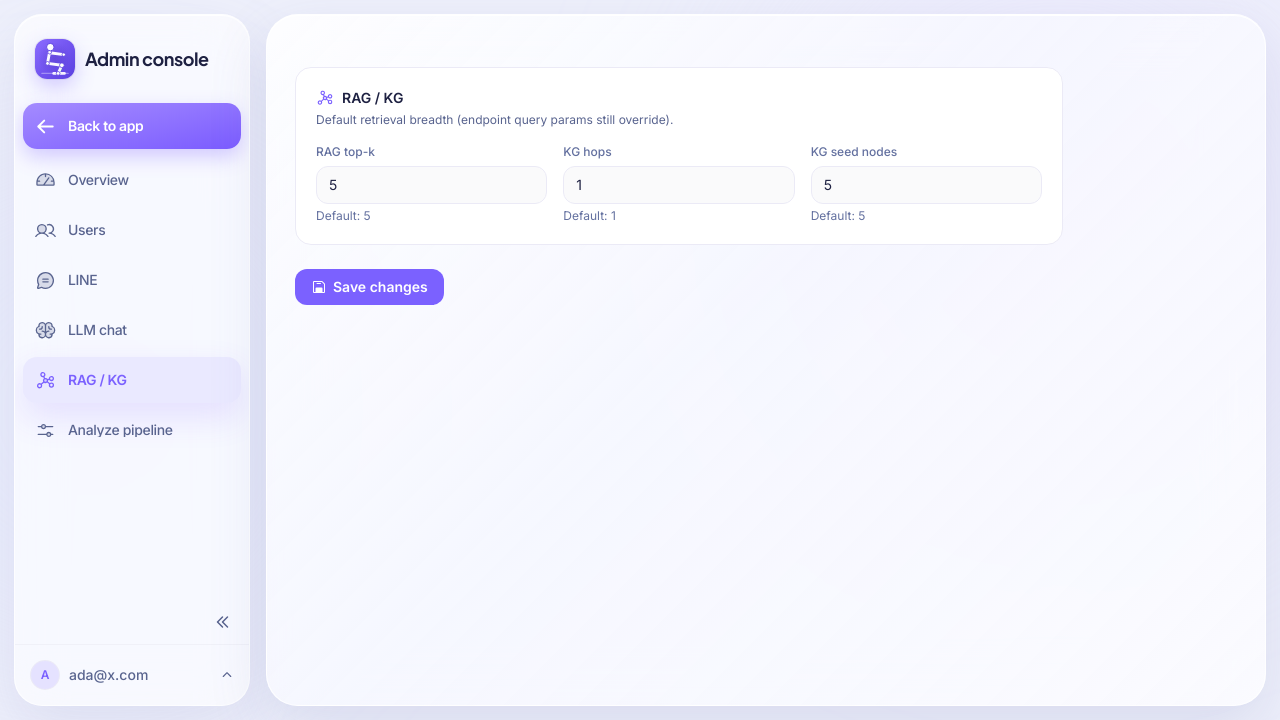
it: Admin settings pages › blocks the save and shows an invalid-number error when a required field is cleared
Clear the field labelled "RAG top-k" at (432, 185), box [316,166,547,204]
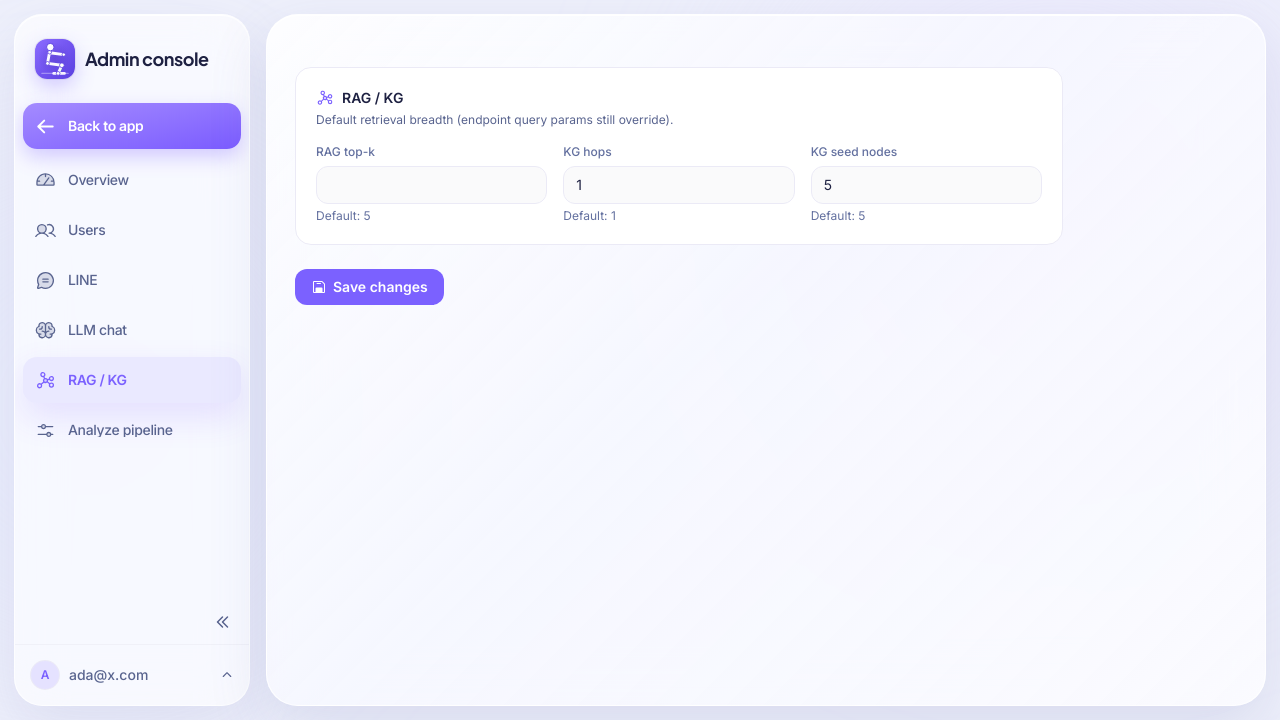
Click the button "Save changes".
click(369, 287)  # box [295,269,444,305]
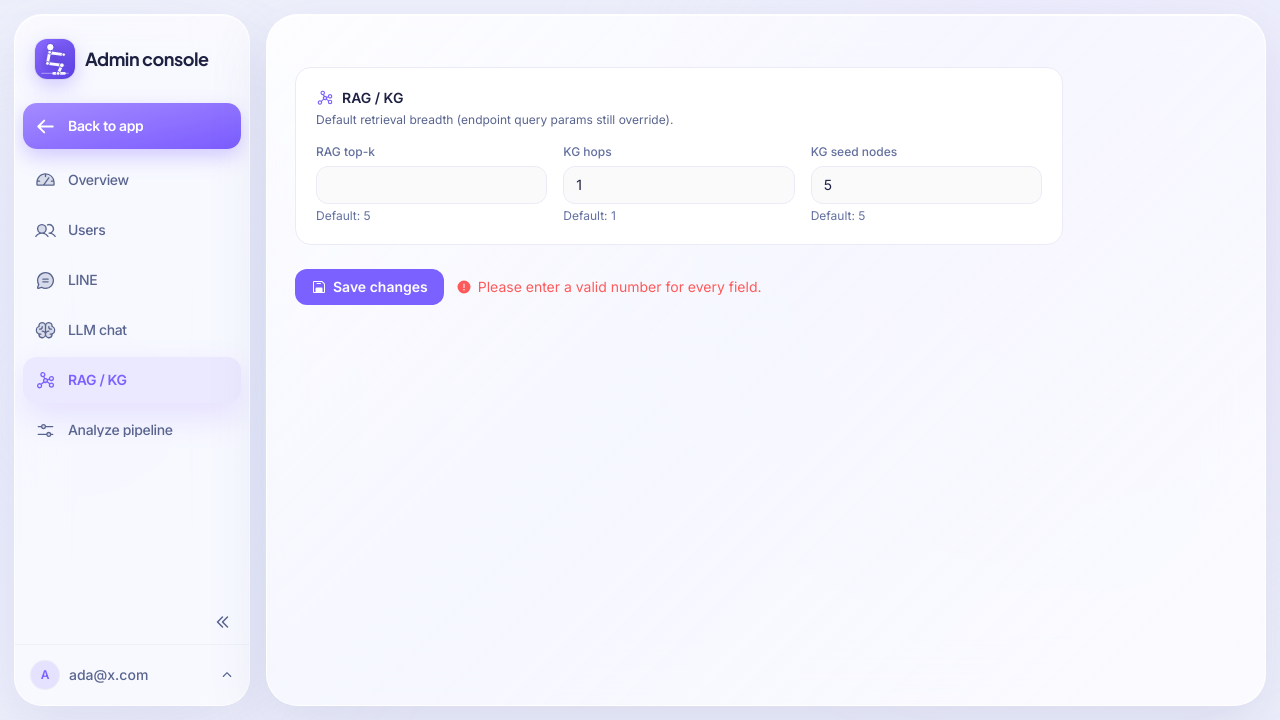
Check: the text "Please enter a valid number for every field." is shown, box [456,277,762,297]
